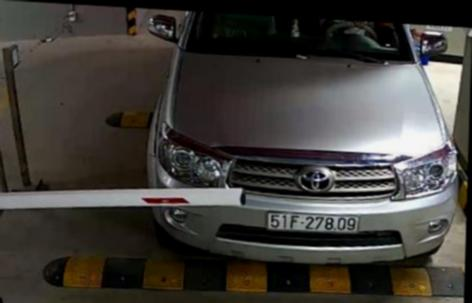License_Plate: (265, 204, 362, 239)
